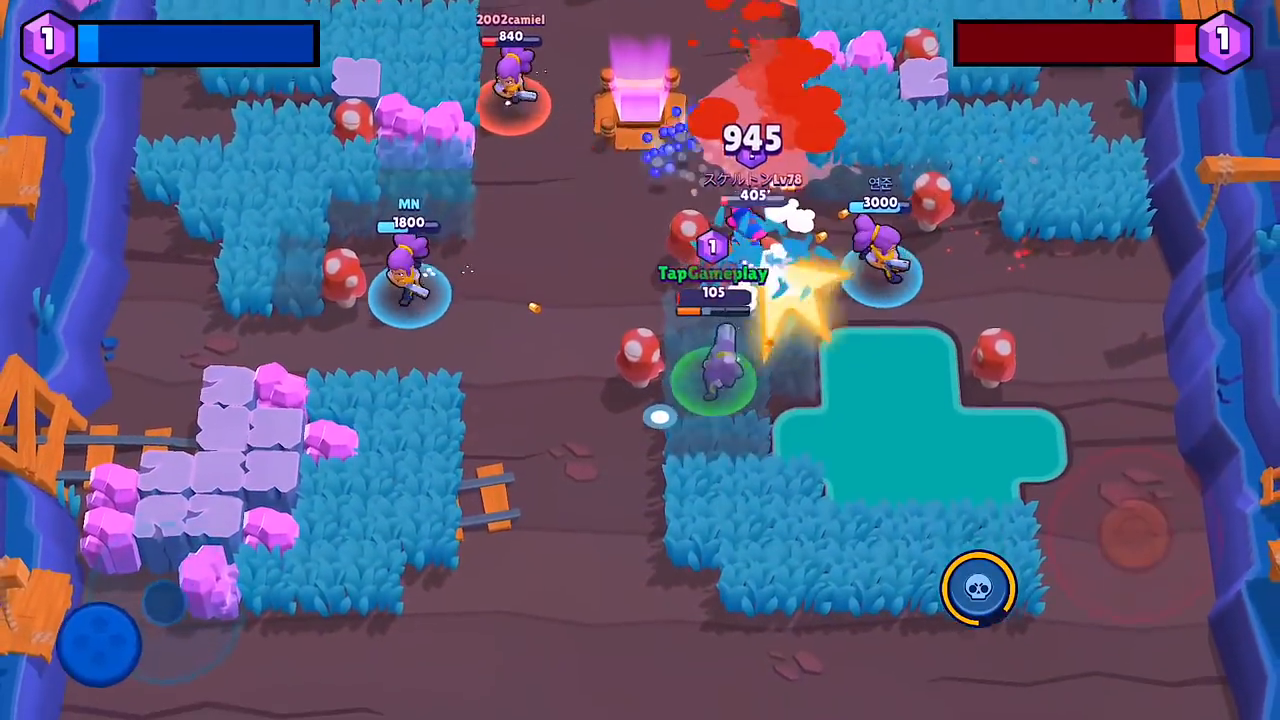move_stick: (59, 596, 151, 669)
red: (470, 9, 572, 141), (707, 173, 793, 288)
